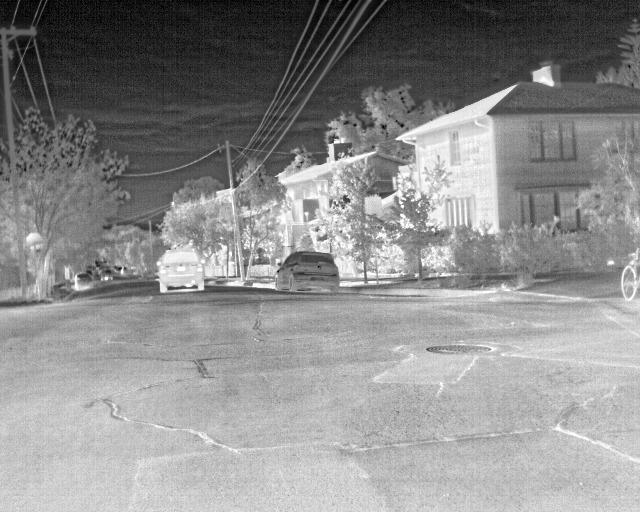bicycle: (618, 259, 638, 299)
car: (273, 250, 339, 296), (155, 249, 205, 294), (75, 273, 92, 290), (100, 268, 116, 283)
